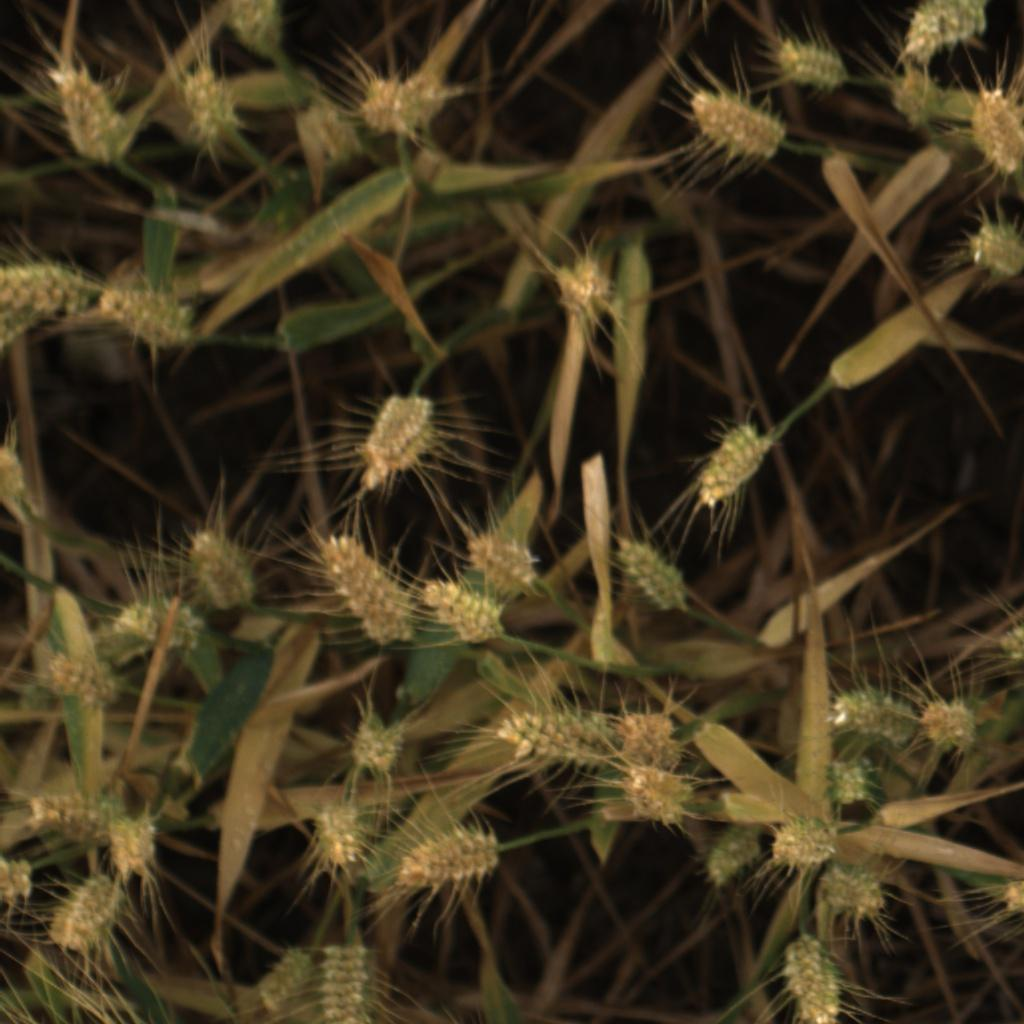0-0: (317, 529, 412, 646), (497, 703, 617, 770), (394, 821, 501, 895), (15, 778, 130, 846), (685, 90, 787, 164), (606, 532, 693, 616), (51, 64, 124, 164), (100, 283, 199, 354), (359, 396, 433, 489), (691, 420, 765, 513), (291, 95, 372, 177), (184, 526, 262, 611), (419, 579, 504, 650), (896, 0, 989, 63), (51, 874, 118, 960), (780, 938, 847, 1024), (828, 686, 915, 749), (964, 86, 1024, 177), (549, 254, 622, 328), (42, 647, 124, 711), (463, 528, 540, 596), (118, 595, 208, 653), (775, 31, 853, 97), (1, 253, 82, 316), (363, 74, 443, 137), (178, 67, 246, 141), (620, 763, 696, 829), (319, 943, 375, 1024), (821, 857, 891, 921), (617, 704, 687, 766), (764, 812, 834, 873), (912, 698, 984, 754), (883, 67, 949, 127), (221, 0, 290, 57), (259, 948, 313, 1018), (309, 805, 366, 870), (964, 221, 1024, 282), (702, 828, 758, 892), (349, 711, 403, 776), (102, 814, 159, 875), (819, 757, 882, 812), (0, 444, 29, 513), (0, 861, 28, 906), (997, 619, 1024, 662), (1003, 875, 1024, 919)
